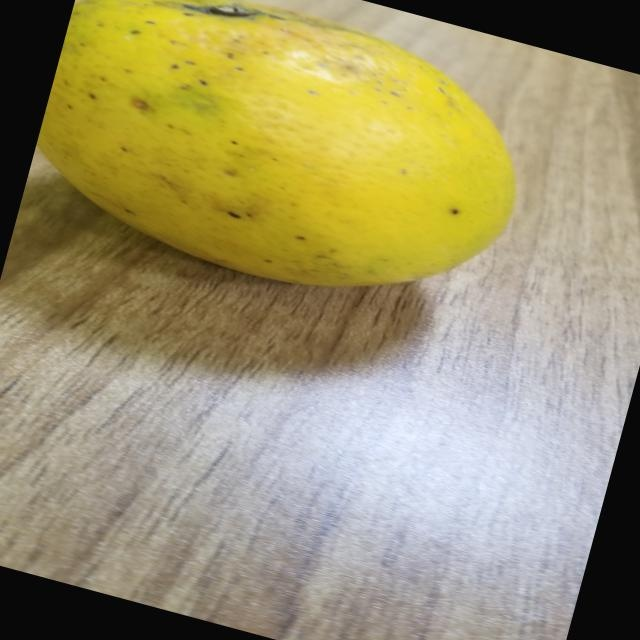agrume: (14, 0, 560, 349)
